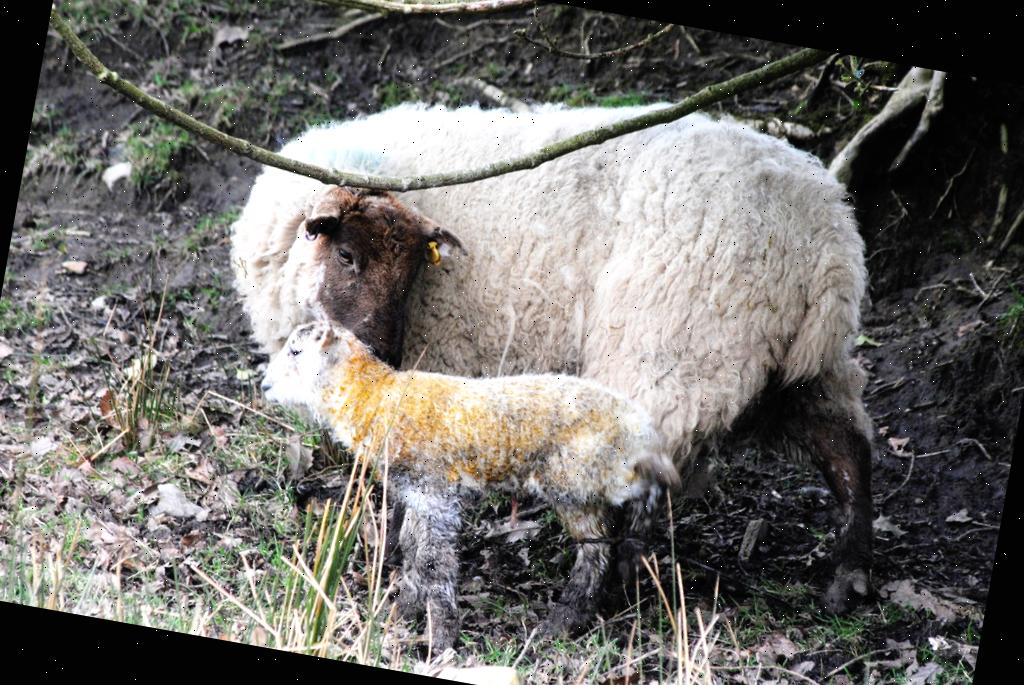Sheep: (175, 26, 945, 648), (217, 313, 692, 685)
